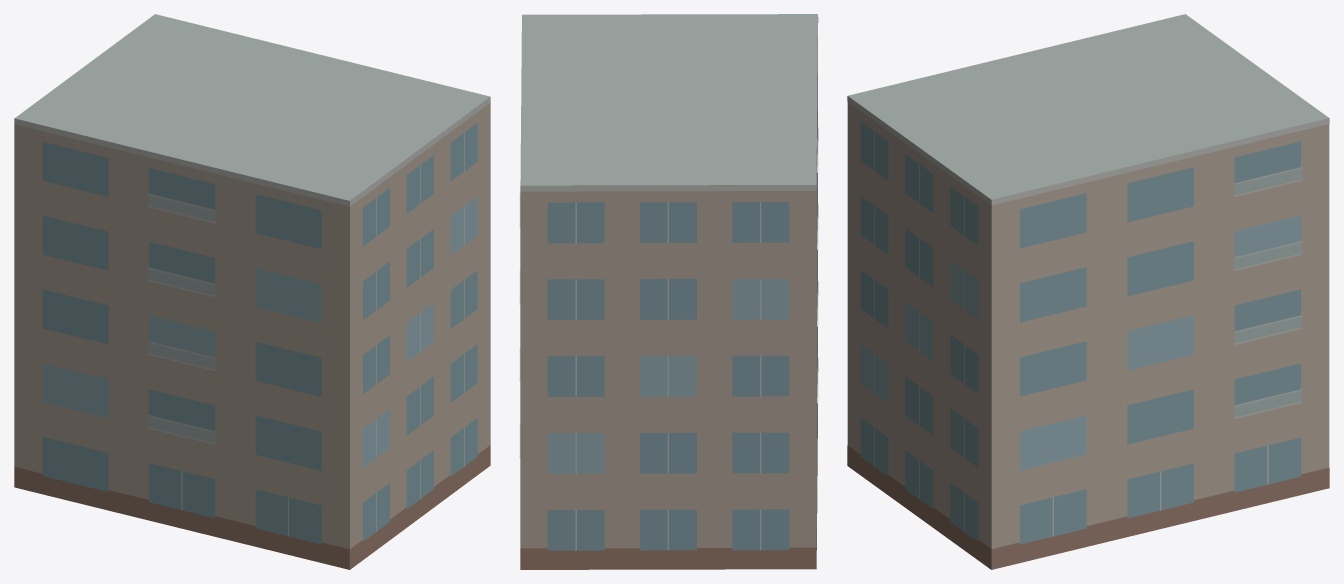
File: survey-upis-32717581.glb
3 views of the same model, side by side, from view 1: azimuth 30°, elevation 25°; view 2: azimuth 150°, elevation 25°; view 3: azimuth 270°, elevation 25° (orthographic). The views are drawn at different scales.
Parts seen in each view (by area): view 1: survey-upis-32717581.tmp; view 2: survey-upis-32717581.tmp; view 3: survey-upis-32717581.tmp.
Part boxes in pixels (x1,y1,x2,y2): survey-upis-32717581.tmp: (14, 14, 490, 569); survey-upis-32717581.tmp: (519, 14, 818, 569); survey-upis-32717581.tmp: (847, 14, 1329, 569).
Bounding box in the file's own units: 16.69 × 15.5 × 18.3.
